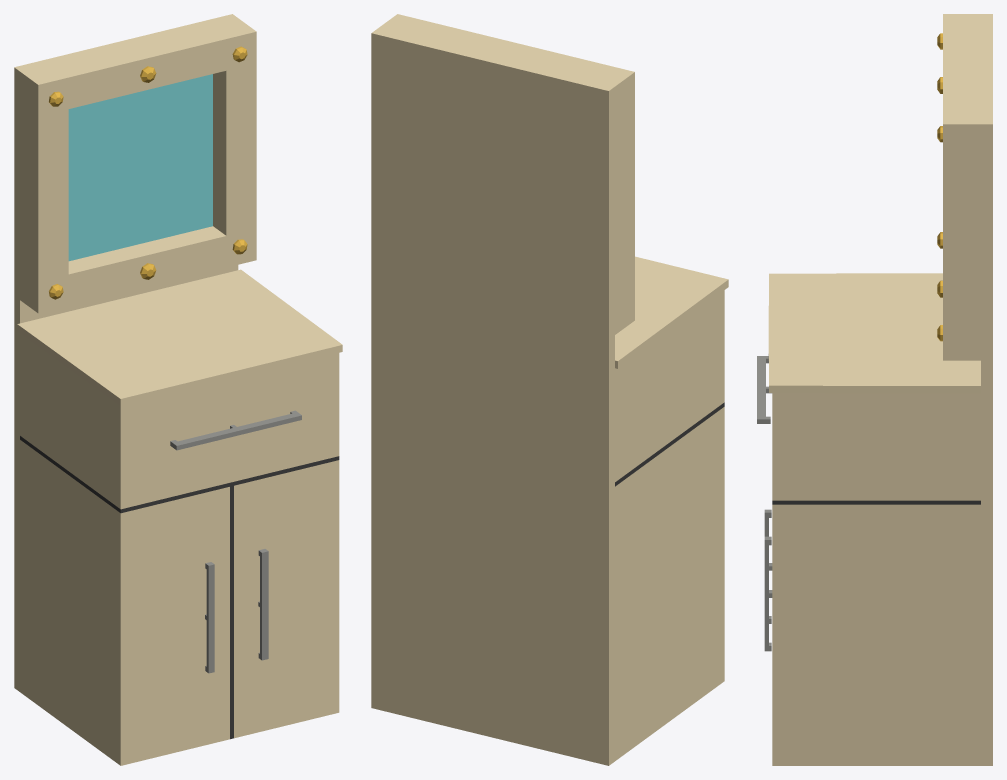
Rendered from aynalımasalı.fbx.
3 views of the same model, side by side, from view 1: azimuth 30°, elevation 25°; view 2: azimuth 150°, elevation 25°; view 3: azimuth 270°, elevation 25° (orthographic). The views are drawn at different scales.
Visible parts, largest first — view 1: Cube.009; view 2: Cube.009; view 3: Cube.009.
Boxes of the visible parts, box(x1,y1,x2,y2) form: Cube.009: box(14, 14, 342, 765); Cube.009: box(371, 14, 728, 765); Cube.009: box(757, 14, 992, 765).
Size of the model in its own units: 205 by 543 by 181.
